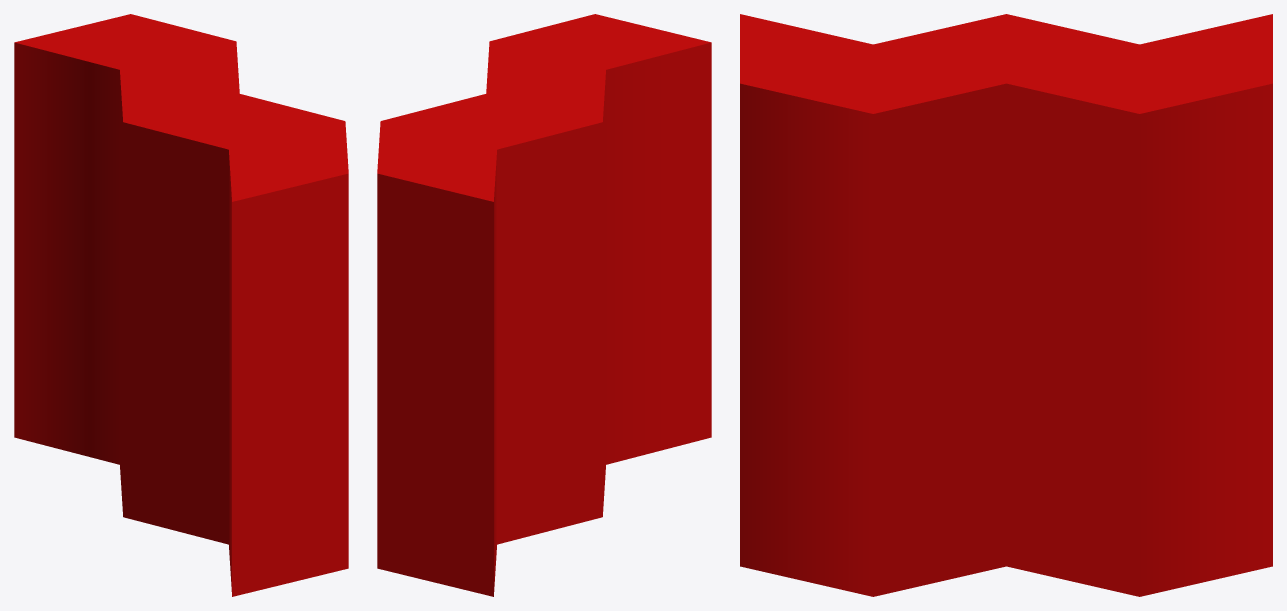
Rendered from FancypCube4.fbx.
The picture shows the model from 3 angles, left to right: view 1: azimuth 30°, elevation 25°; view 2: azimuth 150°, elevation 25°; view 3: azimuth 270°, elevation 25°; orthographic projection. The views are drawn at different scales.
Visible parts, largest first — view 1: pCube4; view 2: pCube4; view 3: pCube4.
Part boxes in pixels (left/top/right/bottom): pCube4: left=14, top=14, right=348, bottom=596; pCube4: left=377, top=14, right=711, bottom=596; pCube4: left=740, top=14, right=1272, bottom=596.
Bounding box in the file's own units: 0.4445 × 1 × 1.
